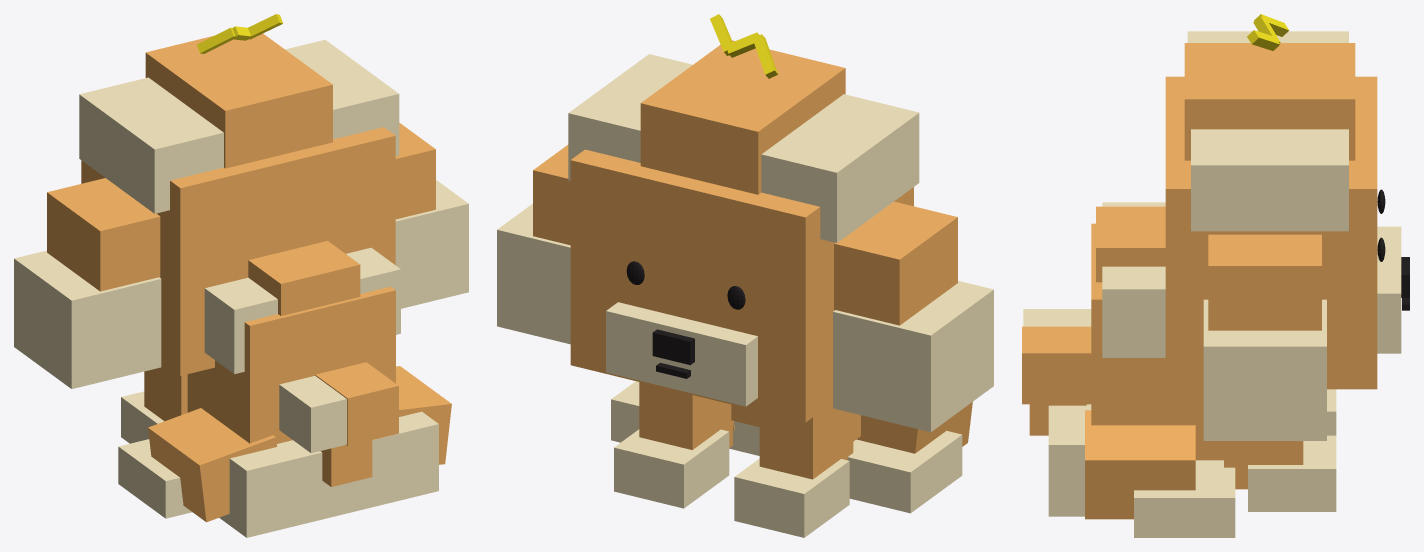
The model's file is Poodle_Block.obj.
3 views of the same model, side by side, from view 1: azimuth 30°, elevation 25°; view 2: azimuth 150°, elevation 25°; view 3: azimuth 270°, elevation 25° (orthographic). The views are drawn at different scales.
Parts seen in each view (by area): view 1: CoreHead, BroadHeadPuffC, CompactTorso, LargeEarPuffL, GroundedRumpPuff, BroadHeadPuffL, SideEarBaseL, LegBL_Leg, LargeEarPuffR, BodyPuffC, BroadHeadPuffR, BodyPuffL (+9 smaller); view 2: CoreHead, BroadHeadPuffC, LargeEarPuffL, BroadHeadPuffL, SideEarBaseL, CreamMuzzle, LargeEarPuffR, LegFR_Paw, LegFL_Paw, LegBL_Paw, BroadHeadPuffR, LegFL_Leg (+7 smaller); view 3: CoreHead, BroadHeadPuffR, BroadHeadPuffC, LargeEarPuffR, SideEarBaseR, LegBR_Leg, CompactTorso, LegBR_Paw, BodyPuffR, TailPuffR, LegFR_Paw, BodyPuffC (+7 smaller).
Part boxes in pixels (x1,y1,x2,y2): CoreHead: (81,127,395,375); BroadHeadPuffC: (145,33,332,168); CompactTorso: (187,286,395,443); LargeEarPuffL: (14,250,161,388); GroundedRumpPuff: (219,411,438,537); BroadHeadPuffL: (79,77,223,213); SideEarBaseL: (47,178,160,291); LegBL_Leg: (148,408,276,522); LargeEarPuffR: (395,180,468,308); BodyPuffC: (248,241,360,315); BroadHeadPuffR: (285,39,399,156); BodyPuffL: (204,277,277,374); CoreHead: (570,149,913,422); BroadHeadPuffC: (640,40,845,194); LargeEarPuffL: (833,281,993,432); BroadHeadPuffL: (761,94,919,242); SideEarBaseL: (834,201,957,325); CreamMuzzle: (606,302,757,406); LargeEarPuffR: (497,203,570,344); LegFR_Paw: (614,429,729,508); LegFL_Paw: (734,458,849,537); LegBL_Paw: (847,430,962,513); BroadHeadPuffR: (568,54,692,180); LegFL_Leg: (759,403,853,479); CoreHead: (1165,76,1377,389); BroadHeadPuffR: (1191,129,1348,231); BroadHeadPuffC: (1184,43,1355,160); LargeEarPuffR: (1203,299,1326,440); SideEarBaseR: (1208,234,1321,330); LegBR_Leg: (1085,410,1195,519); CompactTorso: (1091,223,1223,460); LegBR_Paw: (1134,460,1235,537); BodyPuffR: (1102,266,1165,357); TailPuffR: (1022,326,1091,404); LegFR_Paw: (1248,435,1336,511); BodyPuffC: (1096,206,1165,282).
Bounding box in the file's own units: 3.1 × 3.15 × 2.45.
